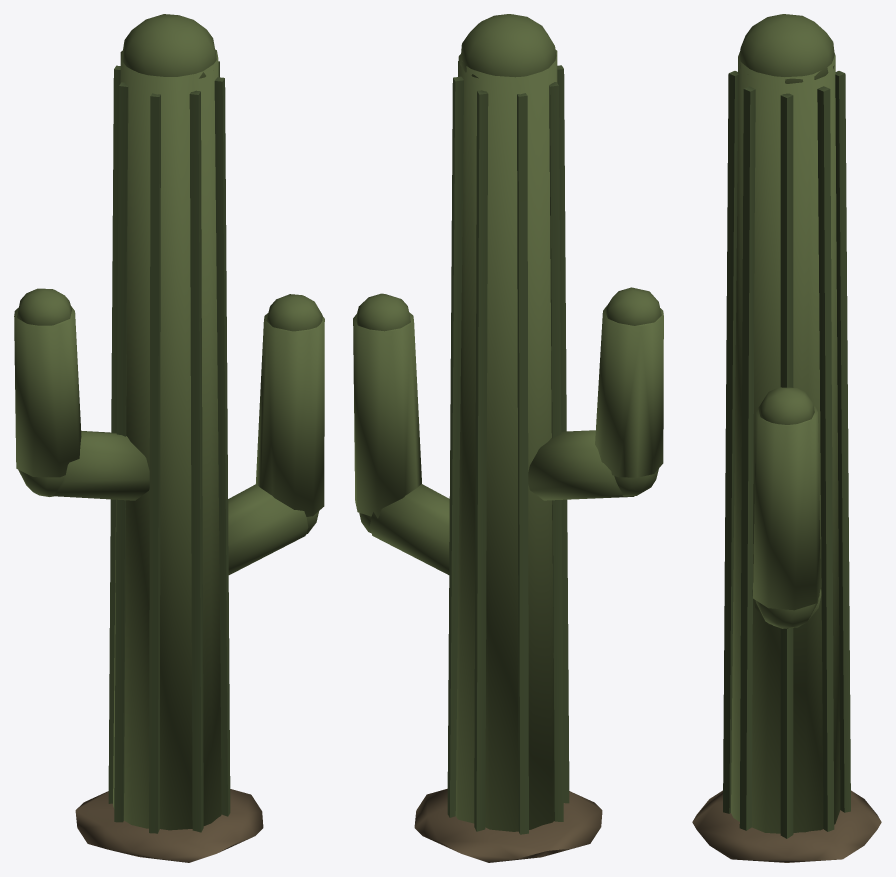
File: saguaro_a_lod1.glb
3 renders of one model, left to right at view 1: azimuth 30°, elevation 25°; view 2: azimuth 150°, elevation 25°; view 3: azimuth 270°, elevation 25°, orthographic.
Parts seen in each view (by area): view 1: Surface.001; view 2: Surface.001; view 3: Surface.001.
Boxes of the visible parts, x1,y1,x2,y2 form: Surface.001: [14, 14, 324, 862]; Surface.001: [353, 14, 663, 862]; Surface.001: [692, 14, 881, 862].
Bounding box in the file's own units: 1.89 × 4.88 × 1.02.
